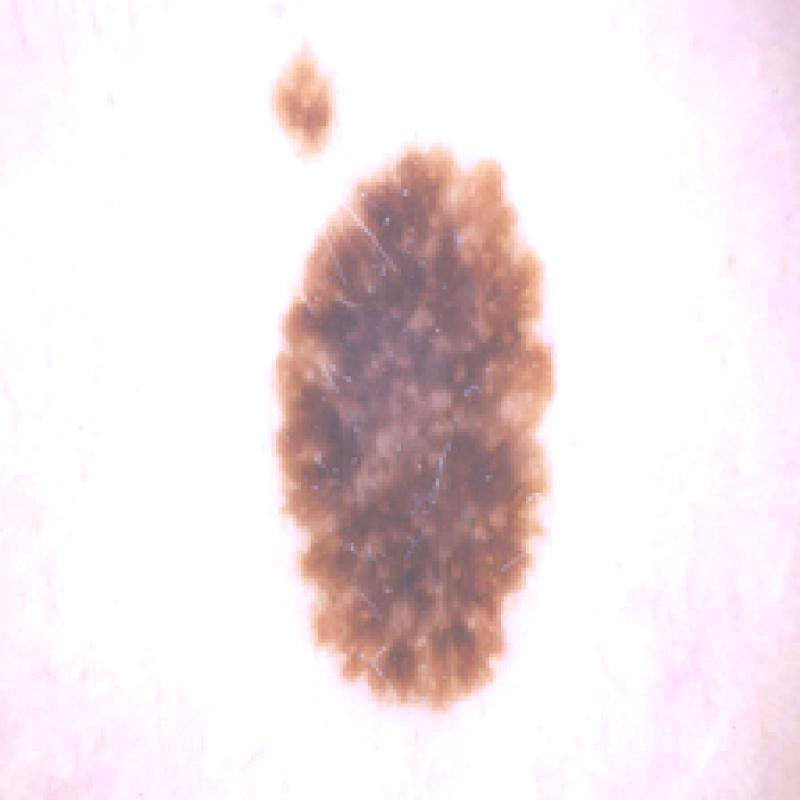benign: (272, 132, 560, 732), (260, 33, 342, 165)
